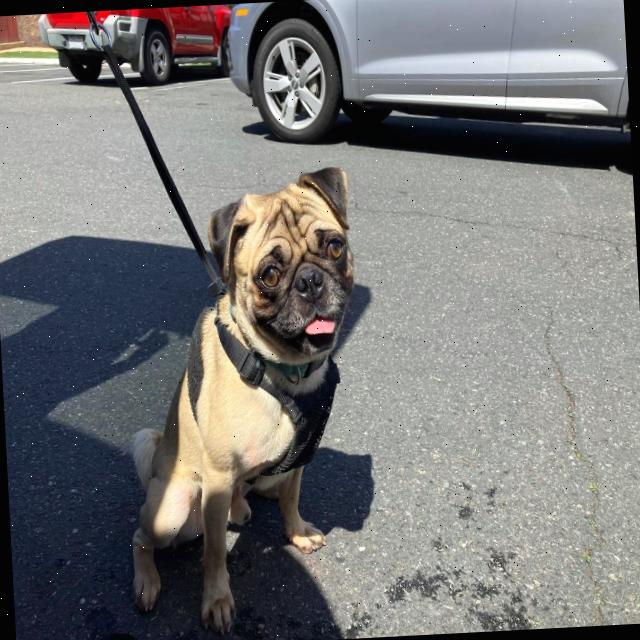pug_dog: (192, 155, 381, 385)
